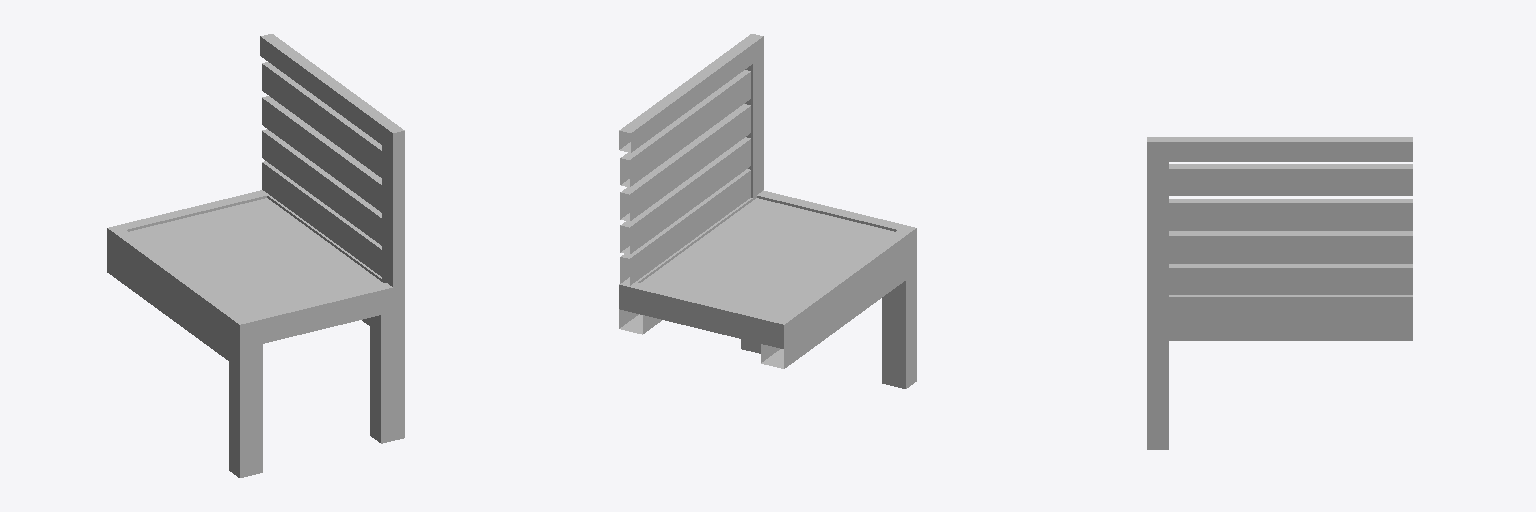
Rendered from benchrightz+.obj.
3 views of the same model, side by side, from view 1: azimuth 30°, elevation 25°; view 2: azimuth 150°, elevation 25°; view 3: azimuth 270°, elevation 25° (orthographic).
Visible parts, largest first — view 1: chair_bedx+.042; view 2: chair_bedx+.042; view 3: chair_bedx+.042.
Part boxes in pixels (bbox=[...]): chair_bedx+.042: bbox=[107, 34, 404, 477]; chair_bedx+.042: bbox=[619, 34, 916, 388]; chair_bedx+.042: bbox=[1147, 137, 1412, 449].
Bounding box in the file's own units: 0.7 × 1.25 × 0.9737.